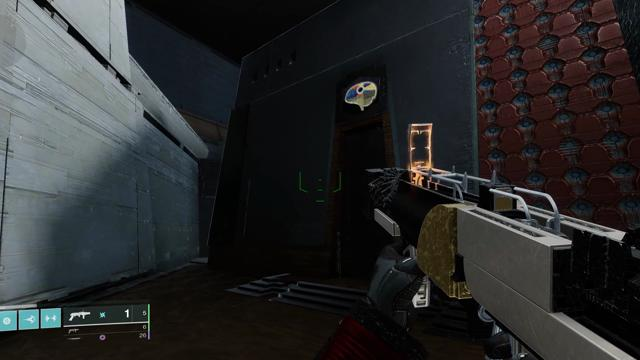brain: (339, 76, 381, 116)
